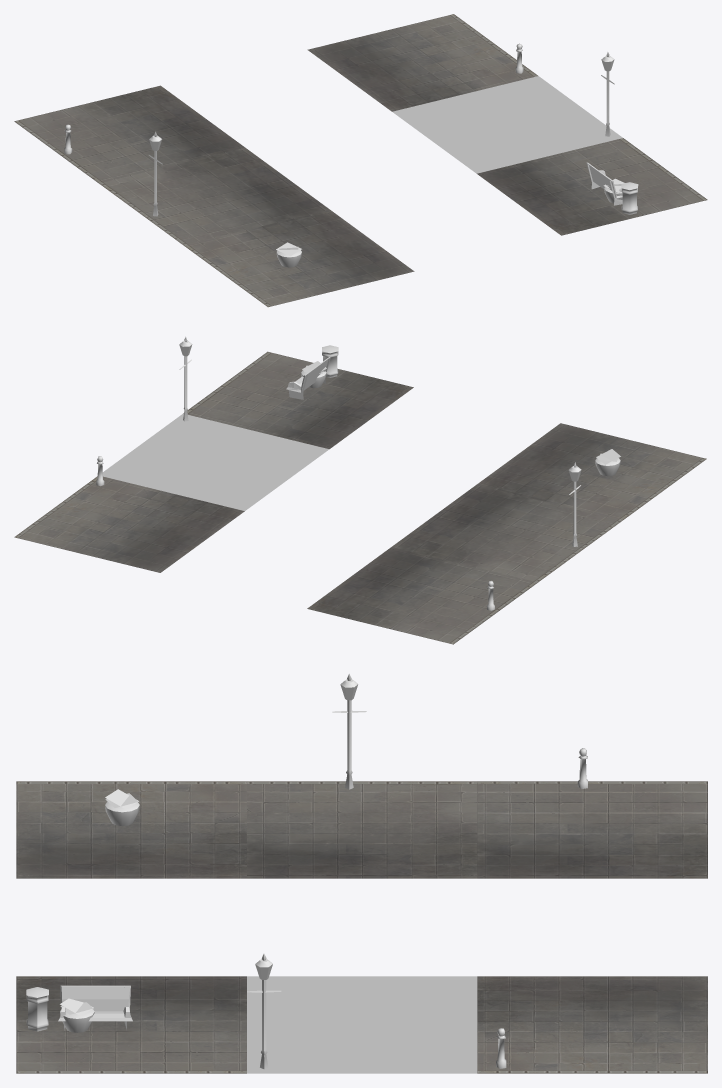
Rendered from propsonly_h24.gltf.
3 renders of one model, top to bottom at view 1: azimuth 30°, elevation 25°; view 2: azimuth 150°, elevation 25°; view 3: azimuth 270°, elevation 25°, orthographic. The views are drawn at different scales.
Visible parts, largest first — view 1: file_h24_center.002, file_h24_endr.003, file_h24_center3.002, file_h24_endl.003, file_h24_endr.004, file_h24_endl.004, prop_bench_h24, prop_trashcan_h24_1, prop_flowerpot_h24_1; view 2: file_h24_center.002, file_h24_endr.003, file_h24_center3.002, file_h24_endl.003, file_h24_endr.004, file_h24_endl.004, prop_bench_h24, prop_flowerpot_h24_1; view 3: file_h24_center3.002, file_h24_endl.003, file_h24_endr.003, file_h24_center.002, file_h24_endr.004, file_h24_endl.004, prop_bench_h24, prop_flowerpot_h24_1, prop_trashcan_h24_1, prop_flowerpot_h24_2, prop_lightpost_h24_2, prop_lightpost_h24_1.
Boxes of the visible parts, x1,y1,x2,y2 form: file_h24_center.002: [392, 76, 622, 173]; file_h24_endr.003: [307, 14, 537, 111]; file_h24_center3.002: [99, 147, 329, 245]; file_h24_endl.003: [14, 85, 244, 183]; file_h24_endr.004: [184, 209, 414, 307]; file_h24_endl.004: [477, 138, 707, 235]; prop_bench_h24: [586, 162, 622, 205]; prop_trashcan_h24_1: [621, 182, 638, 214]; prop_flowerpot_h24_1: [276, 242, 301, 267]; file_h24_center.002: [102, 413, 328, 510]; file_h24_endr.003: [14, 476, 244, 572]; file_h24_center3.002: [392, 485, 621, 582]; file_h24_endl.003: [307, 547, 537, 644]; file_h24_endr.004: [476, 423, 706, 520]; file_h24_endl.004: [183, 351, 413, 449]; prop_bench_h24: [286, 357, 330, 399]; prop_flowerpot_h24_1: [595, 449, 620, 476]; file_h24_center3.002: [247, 781, 477, 878]; file_h24_endl.003: [477, 781, 707, 878]; file_h24_endr.003: [477, 976, 707, 1073]; file_h24_center.002: [247, 976, 477, 1073]; file_h24_endr.004: [16, 781, 246, 878]; file_h24_endl.004: [16, 976, 246, 1073]; prop_bench_h24: [58, 985, 132, 1030]; prop_flowerpot_h24_1: [105, 789, 139, 826]; prop_trashcan_h24_1: [26, 987, 48, 1031]; prop_flowerpot_h24_2: [60, 998, 94, 1032]; prop_lightpost_h24_2: [247, 953, 281, 1069]; prop_lightpost_h24_1: [332, 674, 366, 789].
Size of what is drawn, in the model's own units: 3 by 0.5636 by 3.01.
